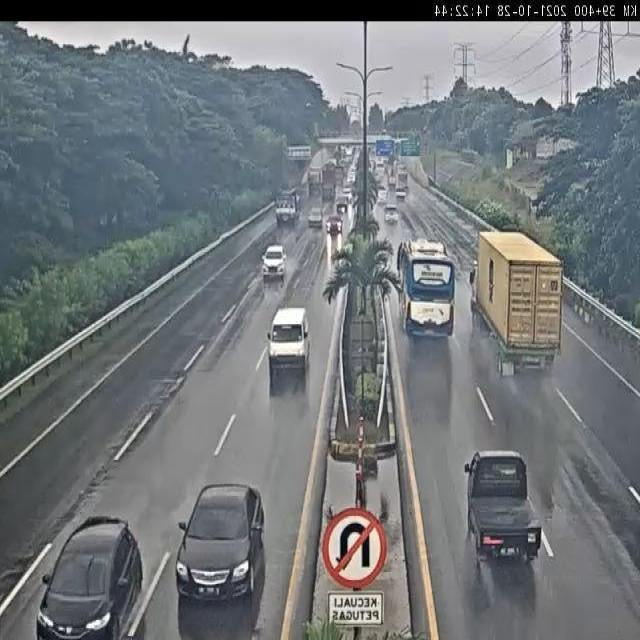Bus: (396, 239, 456, 341), (397, 164, 407, 181)
Car: (36, 517, 142, 640), (175, 482, 264, 608), (262, 244, 288, 278), (384, 201, 399, 224), (326, 215, 343, 235), (307, 207, 323, 228), (336, 188, 350, 210), (388, 174, 397, 189)
Truck: (472, 230, 562, 377), (460, 447, 546, 560), (274, 189, 300, 224), (308, 170, 322, 197), (376, 188, 386, 205), (396, 188, 406, 201)
Van: (267, 306, 310, 389)
